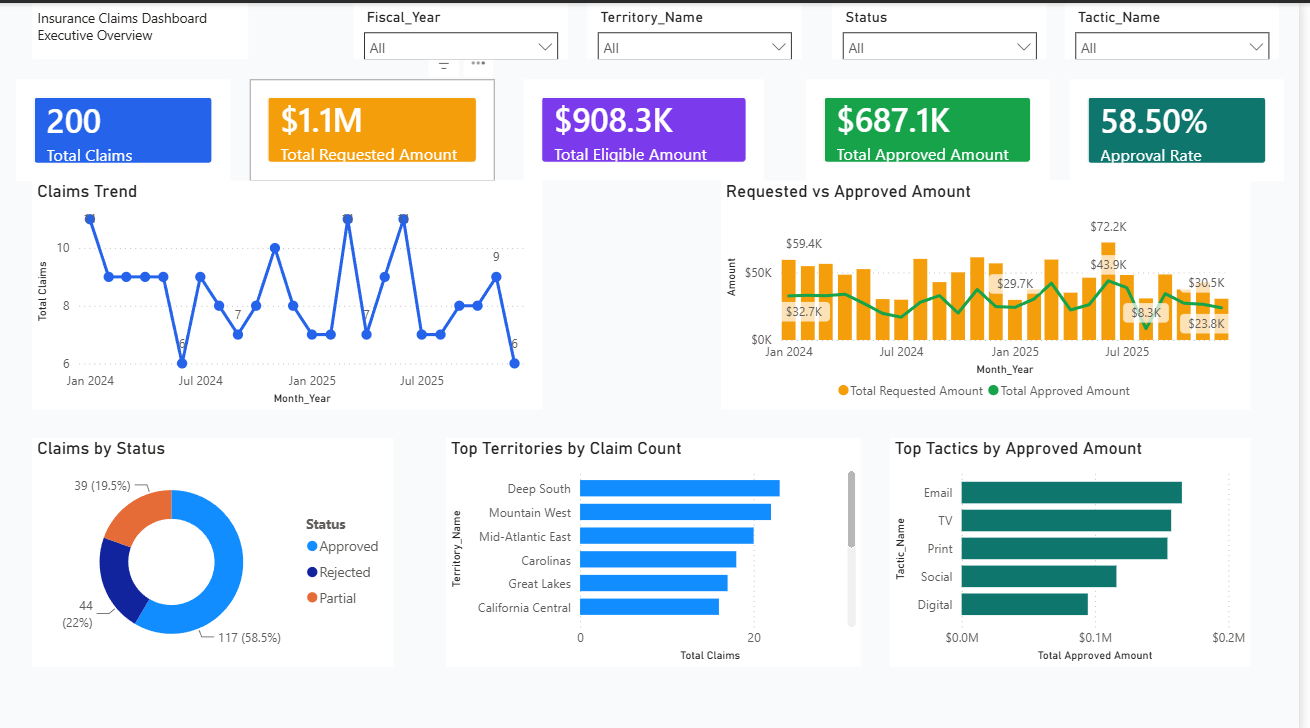

The page's visual inventory and layout, read from the dashboard file:
{"tool":"powerbi","page":{"name":"Page 1","canvas":[1280,720],"ordinal":0},"visuals":[{"type":"cardVisual","fields":{"Data":["Measures Table.Total Claims"]},"box":[20,75.4,210,100],"z":0},{"type":"cardVisual","fields":{"Data":["Measures Table.Total Requested Amount"]},"box":[248.9,75.4,240.4,99.6],"z":1000},{"type":"cardVisual","fields":{"Data":["Measures Table.Total Eligible Amount"]},"box":[517.7,75.4,236.1,99.6],"z":2000},{"type":"cardVisual","fields":{"Data":["Measures Table.Total Approved Amount"]},"box":[795.1,75.4,238.9,99.6],"z":3000},{"type":"cardVisual","fields":{"Data":["Measures Table.Approval Rate"]},"box":[1053.9,75.4,210,100],"z":4000},{"type":"textbox","box":[35.7,0,211.8,55.2],"z":5000},{"type":"slicer","fields":{"Values":["Dim_Date.Fiscal_Year"]},"box":[351.3,0,210.5,55.5],"z":6000},{"type":"slicer","fields":{"Values":["Dim_Tactic.Tactic_Name"]},"box":[1049.6,0,210.5,55.5],"z":7000},{"type":"slicer","fields":{"Values":["Dim_Territory.Territory_Name"]},"box":[580.3,0,210.5,55.5],"z":8000},{"type":"slicer","fields":{"Values":["Fact_Claims.Status"]},"box":[820.6,0,210.5,55.5],"z":9000},{"type":"lineChart","title":"Claims Trend","fields":{"Category":["Dim_Date.Month_Year"],"Y":["Measures Table.Total Claims"]},"box":[35.6,174.2,500.6,224.5],"z":10000},{"type":"lineStackedColumnComboChart","title":"Requested vs Approved Amount","fields":{"Category":["Dim_Date.Month_Year"],"Y":["Measures Table.Total Requested Amount"],"Y2":["Measures Table.Total Approved Amount"]},"box":[711.7,174.2,520.2,224.5],"z":11000},{"type":"donutChart","title":"Claims by Status","fields":{"Category":["Fact_Claims.Status"],"Y":["Measures Table.Total Claims"]},"box":[35.6,427,354.6,224.5],"z":12000},{"type":"clusteredBarChart","title":"Top Territories by Claim Count","fields":{"Category":["Dim_Territory.Territory_Name"],"Y":["Measures Table.Total Claims"]},"box":[441.7,427,407.4,224.5],"z":13000},{"type":"clusteredBarChart","title":"Top Tactics by Approved Amount","fields":{"Category":["Dim_Tactic.Tactic_Name"],"Y":["Measures Table.Total Approved Amount"]},"box":[877.3,427,354.6,224.5],"z":14000}]}

Visuals, with their boxes in screenshot pixels (x1, y1, x2, y2), scaled from the page's 1280x720 canvas onto the 1310x728 screenshot:
cardVisual - Measures Table.Total Claims: (20,76,235,177)
cardVisual - Measures Table.Total Requested Amount: (255,76,501,177)
cardVisual - Measures Table.Total Eligible Amount: (530,76,771,177)
cardVisual - Measures Table.Total Approved Amount: (814,76,1058,177)
cardVisual - Measures Table.Approval Rate: (1079,76,1294,177)
textbox: (37,0,253,56)
slicer - Dim_Date.Fiscal_Year: (360,0,575,56)
slicer - Dim_Tactic.Tactic_Name: (1074,0,1290,56)
slicer - Dim_Territory.Territory_Name: (594,0,809,56)
slicer - Fact_Claims.Status: (840,0,1055,56)
"Claims Trend" lineChart: (36,176,549,403)
"Requested vs Approved Amount" lineStackedColumnComboChart: (728,176,1261,403)
"Claims by Status" donutChart: (36,432,399,659)
"Top Territories by Claim Count" clusteredBarChart: (452,432,869,659)
"Top Tactics by Approved Amount" clusteredBarChart: (898,432,1261,659)
